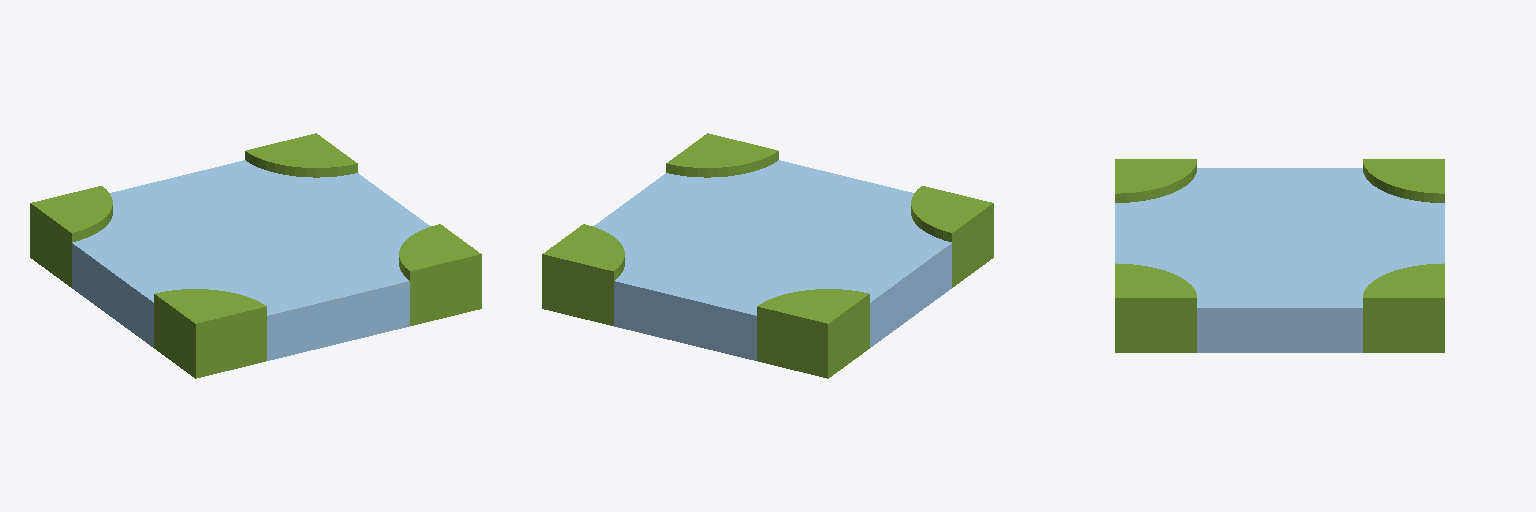
The picture shows the model from 3 angles: view 1: azimuth 30°, elevation 25°; view 2: azimuth 150°, elevation 25°; view 3: azimuth 270°, elevation 25°; orthographic projection.
Parts seen in each view (by area): view 1: roadTile_173.001; view 2: roadTile_173.001; view 3: roadTile_173.001.
Part boxes in pixels (bbox=[...]): roadTile_173.001: bbox=[30, 133, 481, 378]; roadTile_173.001: bbox=[542, 133, 993, 378]; roadTile_173.001: bbox=[1115, 159, 1444, 352].
Bounding box in the file's own units: 3 × 0.55 × 3.